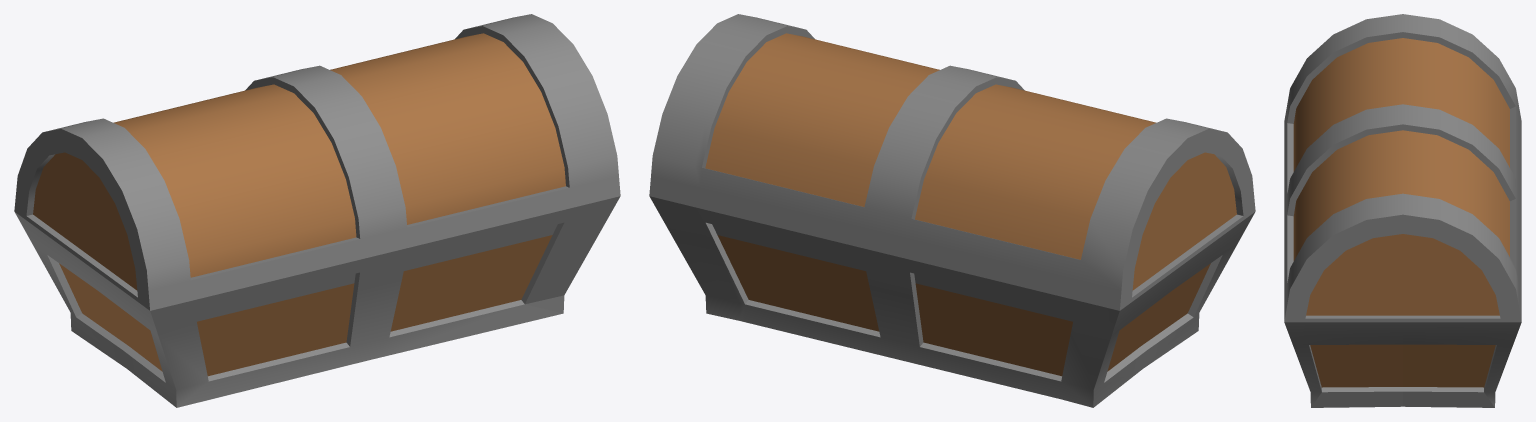
Rendered from Chest.fbx.
3 renders of one model, left to right at view 1: azimuth 30°, elevation 25°; view 2: azimuth 150°, elevation 25°; view 3: azimuth 270°, elevation 25°, orthographic. The views are drawn at different scales.
Visible parts, largest first — view 1: polySurface2; view 2: polySurface2; view 3: polySurface2.
Boxes of the visible parts, x1=… form: polySurface2: x1=14, y1=14, x2=620, y2=407; polySurface2: x1=649, y1=14, x2=1255, y2=407; polySurface2: x1=1284, y1=14, x2=1521, y2=407.
Size of the model in its own units: 200 by 98.09 by 100.
